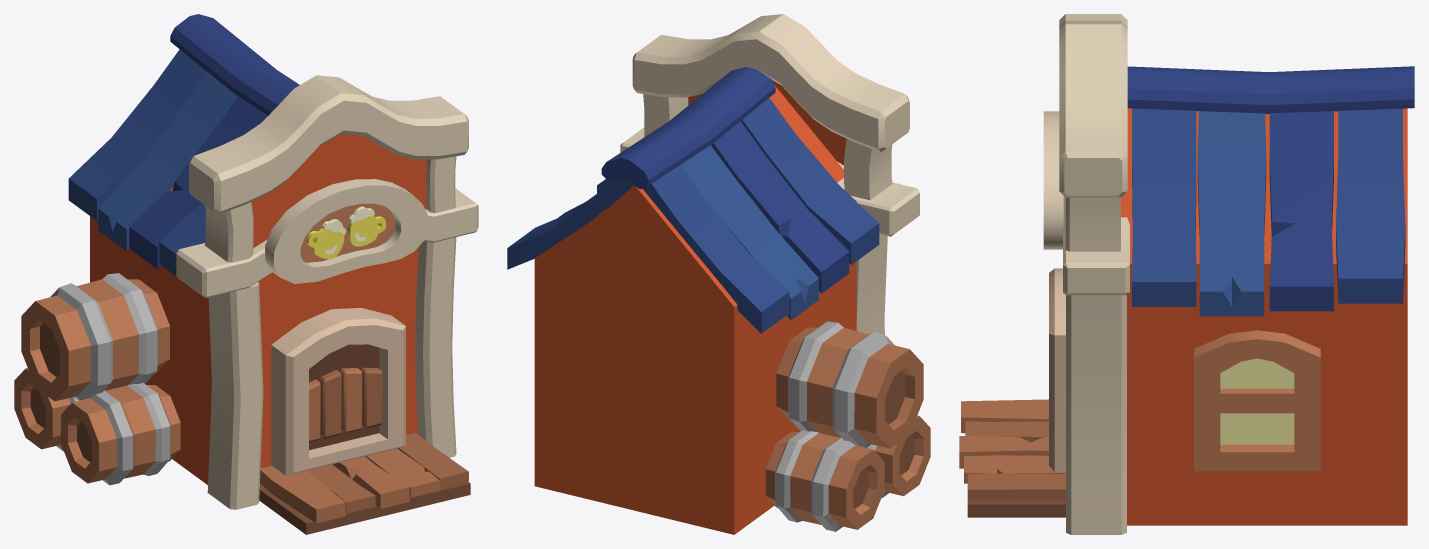
The model's file is Saloon.fbx.
3 views of the same model, side by side, from view 1: azimuth 30°, elevation 25°; view 2: azimuth 150°, elevation 25°; view 3: azimuth 270°, elevation 25° (orthographic). The views are drawn at different scales.
Visible parts, largest first — view 1: Saloon; view 2: Saloon; view 3: Saloon.
Part boxes in pixels (x1,y1,x2,y2): Saloon: [14, 14, 478, 534]; Saloon: [507, 14, 930, 534]; Saloon: [959, 14, 1414, 534].
Size of the model in its own units: 529 by 573 by 531.
